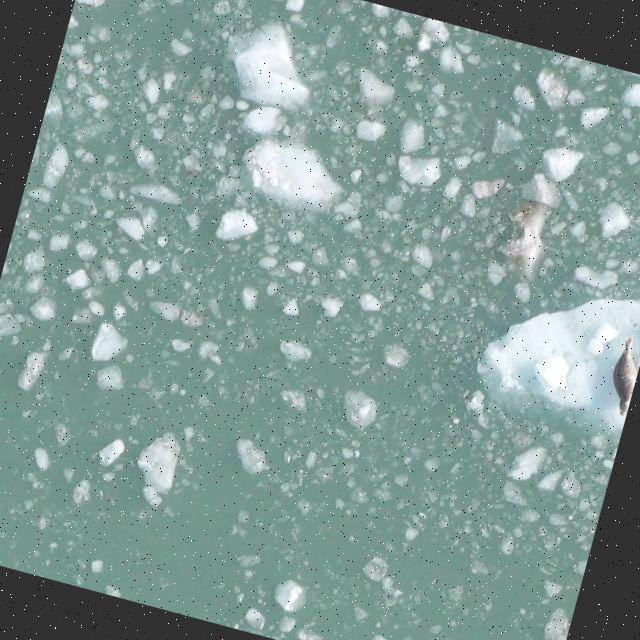seal: (598, 330, 640, 420)
